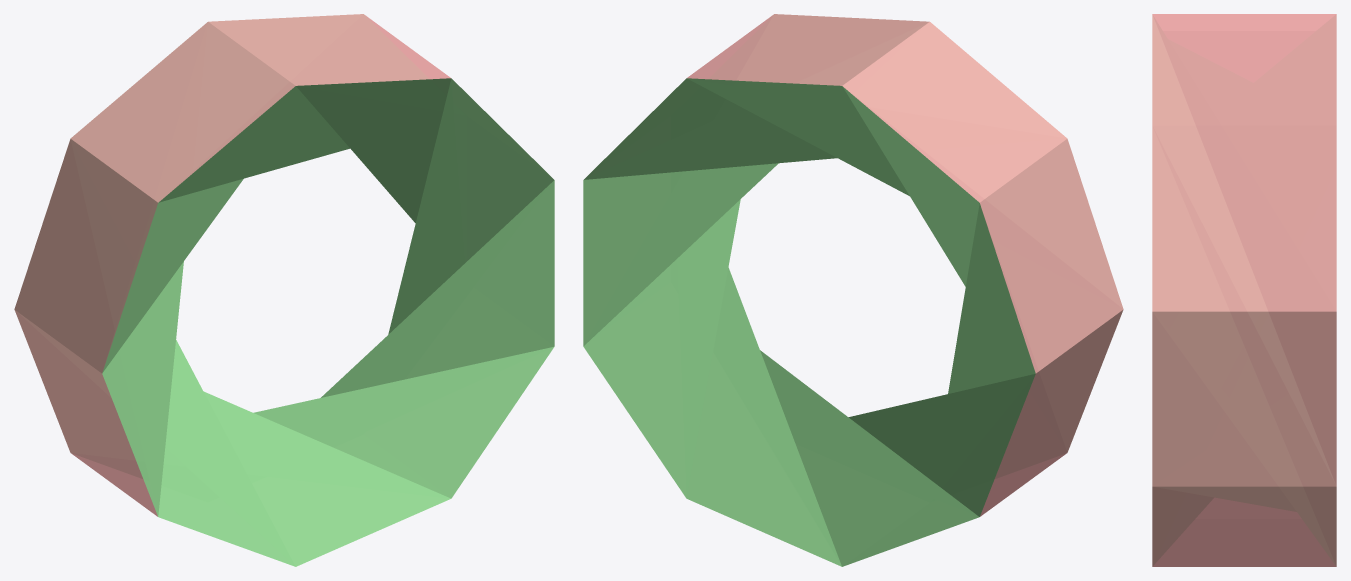
File: EnneagonalIrisToroid.obj
3 views of the same model, side by side, from view 1: azimuth 30°, elevation 25°; view 2: azimuth 150°, elevation 25°; view 3: azimuth 270°, elevation 25° (orthographic). The views are drawn at different scales.
Size of the model in its own units: 2.5 by 2.54 by 0.84.
